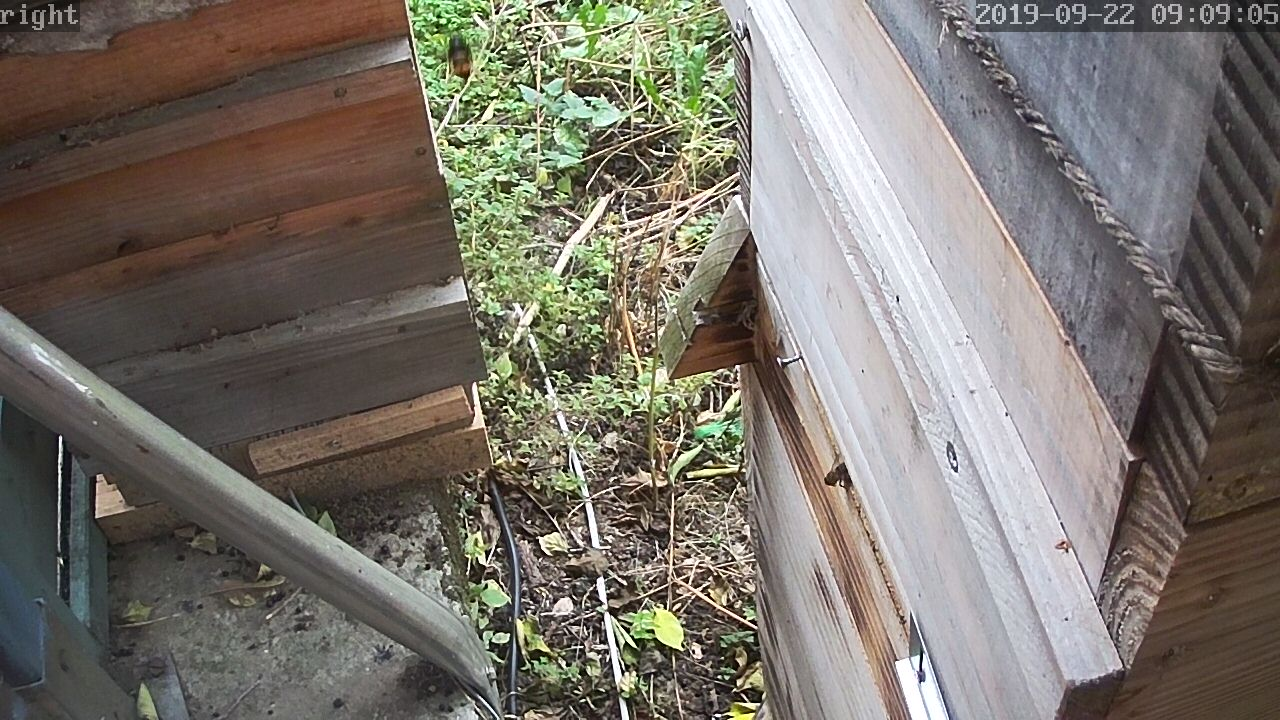bee: (814, 458, 841, 488)
hornet: (439, 27, 473, 88)
